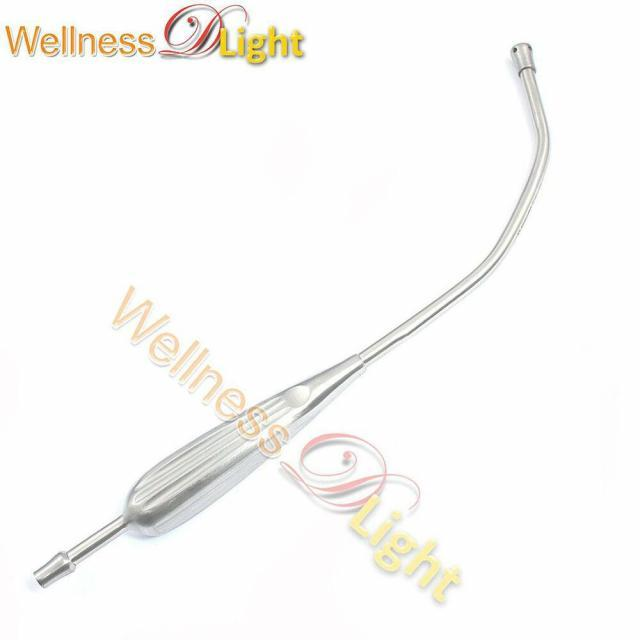Yankauer: (28, 39, 556, 592)
